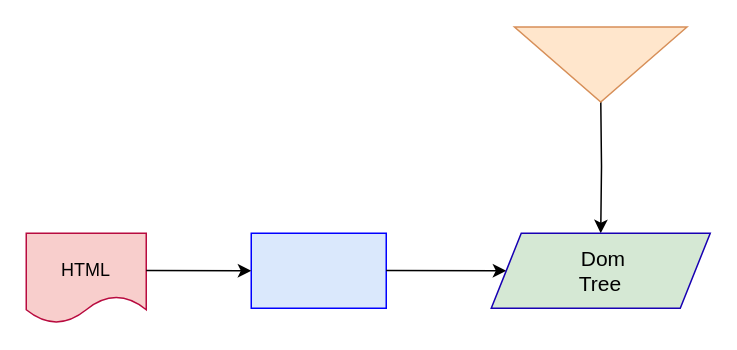
The diagram is 737 pixels wide and 350 high, and some of its shapes have lost their labels. The shapes that lost their labels are listed below. From the top down, each one's box as (x1, y1, x2, y2) in pixels, then its label:
(513, 26, 687, 102): Dom
(250, 232, 386, 308): HTML Paster
